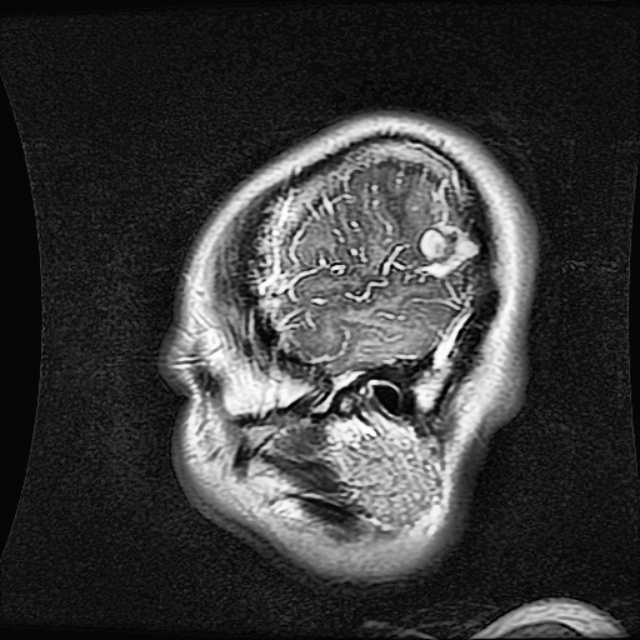Meningioma: (422, 228, 444, 257)
